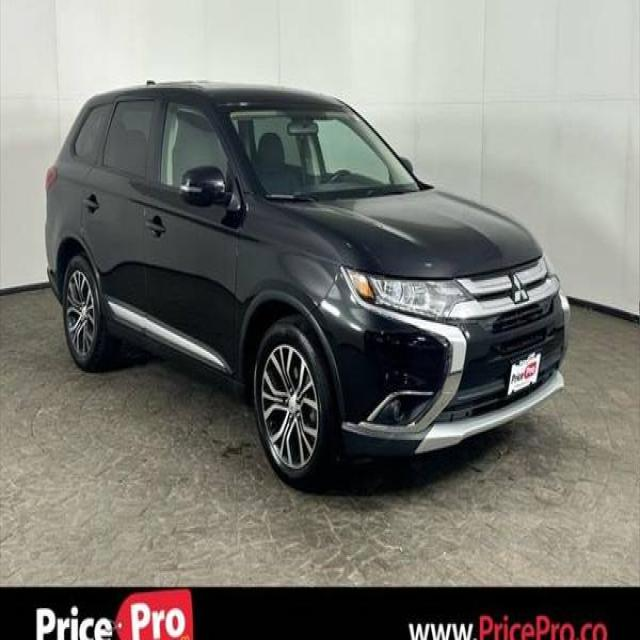light_vehicle: (43, 78, 570, 490)
